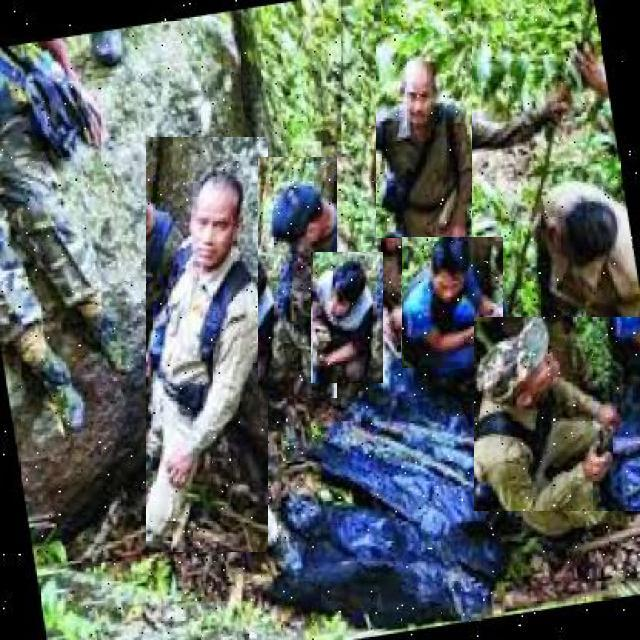poacher: (146, 137, 268, 552), (474, 317, 640, 511), (376, 34, 472, 238), (258, 157, 337, 398), (527, 170, 640, 312), (402, 237, 503, 368), (311, 252, 383, 383)
